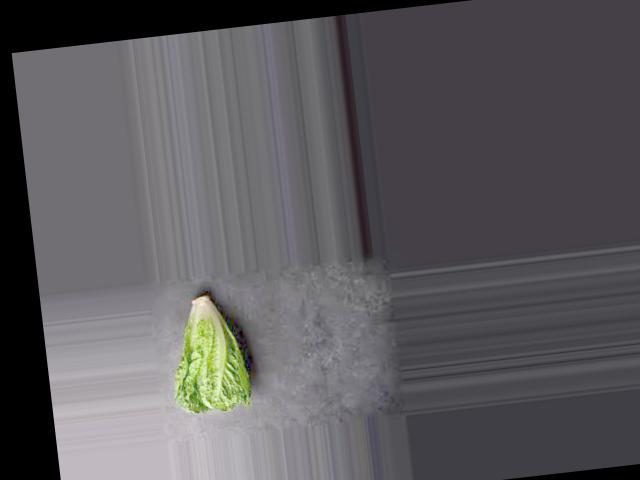lettuce: (212, 276, 376, 434)
